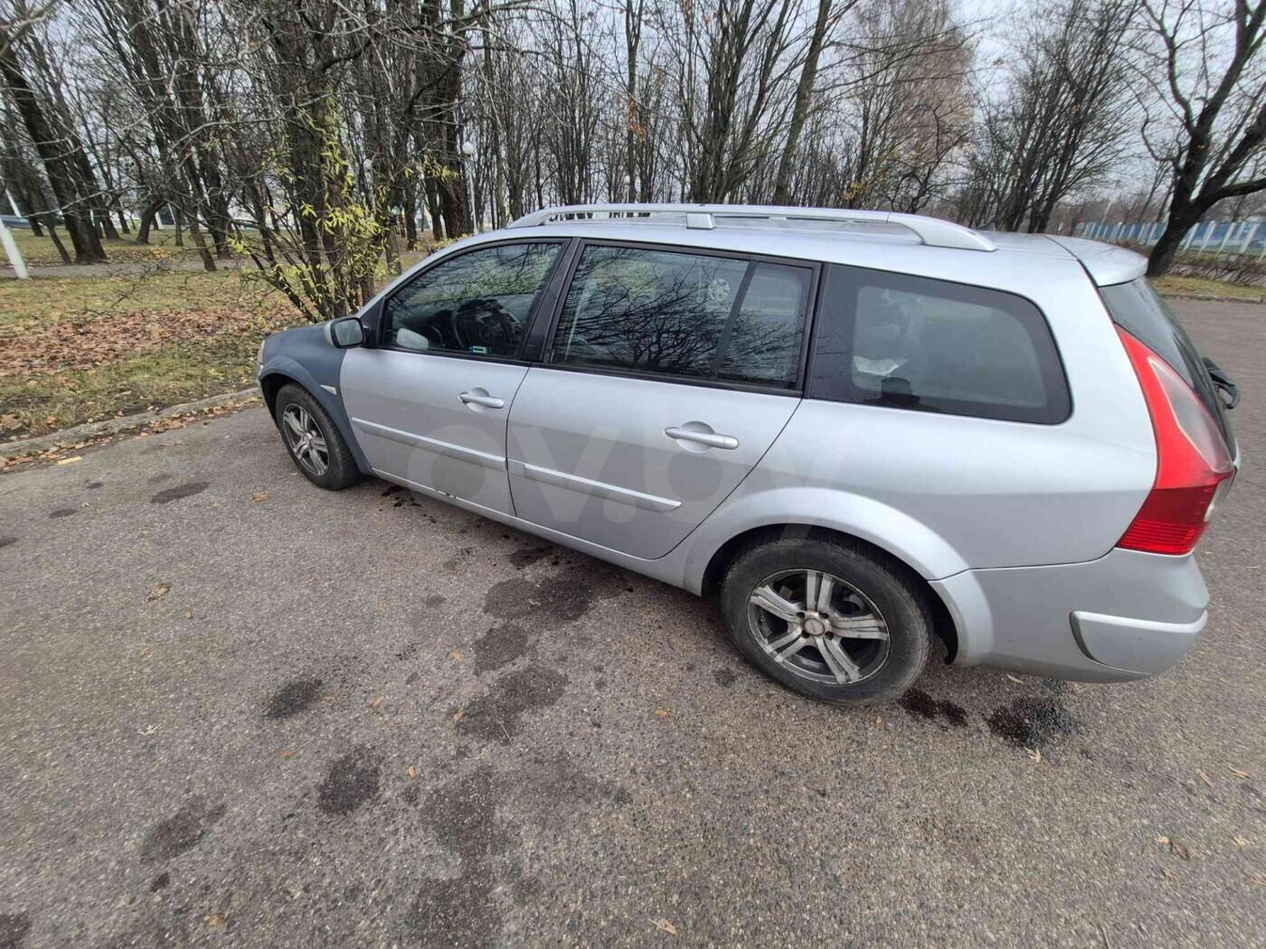Megane_2005-2009: (256, 203, 1236, 732)
